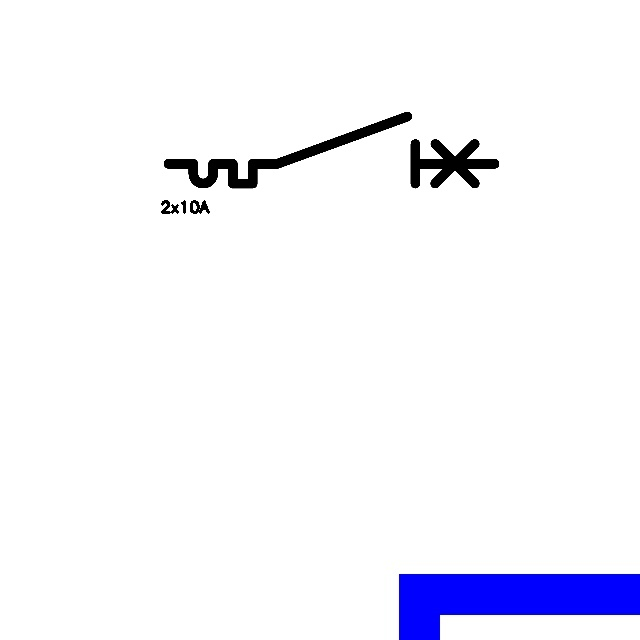interruptor_termomagnetico: (160, 108, 503, 192)
